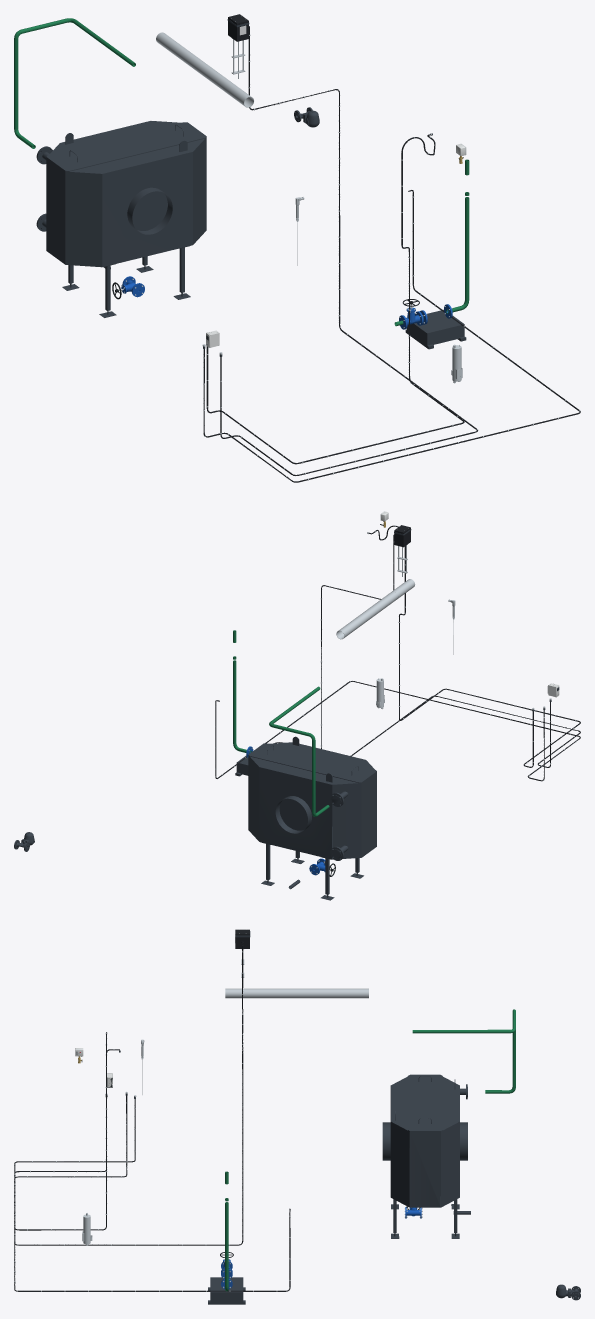
3 renders of one model, top to bottom at view 1: azimuth 30°, elevation 25°; view 2: azimuth 150°, elevation 25°; view 3: azimuth 270°, elevation 25°, orthographic. The views are drawn at different scales.
Visible parts, largest first — view 1: EQS2-3000 CAD 0, EQS2-3000 CAD 3, EQS2-3000 CAD 1, gpz_drive_cable / black, wiring_pump_2 / black, pump_branch_1 / dark, wiring_pressure_switch_3 / black, from_economizer / green, steam_delivery / steel, pump_branch_1 / green; view 2: EQS2-3000 CAD 0, EQS2-3000 CAD 3, EQS2-3000 CAD 2, wiring_pump_2 / black, gpz_drive_cable / black, wiring_pressure_switch_3 / black, from_economizer / green, steam_delivery / steel; view 3: EQS2-3000 CAD 3, steam_delivery / steel, wiring_pump_2 / black, gpz_drive_cable / black, EQS2-3000 CAD 0, pump_branch_1 / dark, wiring_pressure_switch_3 / black, from_economizer / green.
Part boxes in pixels (x1,y1,x2,y2): EQS2-3000 CAD 0: (62,152,192,317); EQS2-3000 CAD 3: (46,121,206,264); EQS2-3000 CAD 1: (65,171,102,267); gpz_drive_cable / black: (220,26,477,475); wiring_pump_2 / black: (203,190,580,482); pump_branch_1 / dark: (405,309,466,349); wiring_pressure_switch_3 / black: (206,134,464,464); from_economizer / green: (14,18,135,148); steam_delivery / steel: (156,32,230,90); pump_branch_1 / green: (394,159,469,326); EQS2-3000 CAD 0: (259,755,363,900); EQS2-3000 CAD 3: (248,736,376,857); EQS2-3000 CAD 2: (330,783,361,860); wiring_pump_2 / black: (215,681,580,781); gpz_drive_cable / black: (321,534,580,767); wiring_pressure_switch_3 / black: (369,525,580,767); from_economizer / green: (269,686,329,816); steam_delivery / steel: (336,591,397,639); EQS2-3000 CAD 3: (390,1074,459,1207); steam_delivery / steel: (260,988,368,998); wiring_pump_2 / black: (14,1095,290,1291); gpz_drive_cable / black: (14,943,243,1245); EQS2-3000 CAD 0: (382,1120,467,1238); pump_branch_1 / dark: (208,1277,245,1304); wiring_pressure_switch_3 / black: (14,1032,135,1230); from_economizer / green: (412,1009,515,1093).
Bounding box in the file's own units: 4.36 × 3.81 × 6.74.
